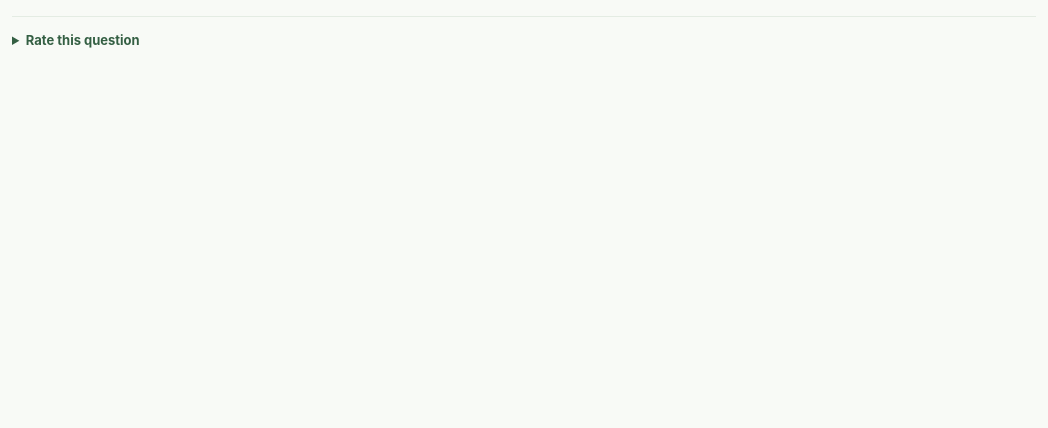
Test: question feedback › loads on demand, saves, edits and deletes feedback
Click the heading "Rate this question". click: (83, 40)
box: [26, 32, 140, 48]
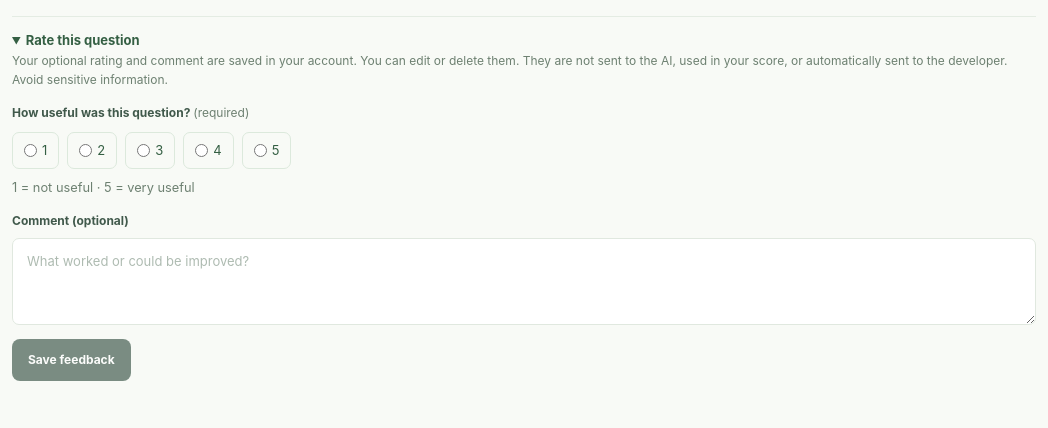
Expected: the button "Save feedback" is disabled, [12, 339, 131, 381]
Click the radio button labelled "4". click: (202, 151)
box: [195, 144, 208, 157]
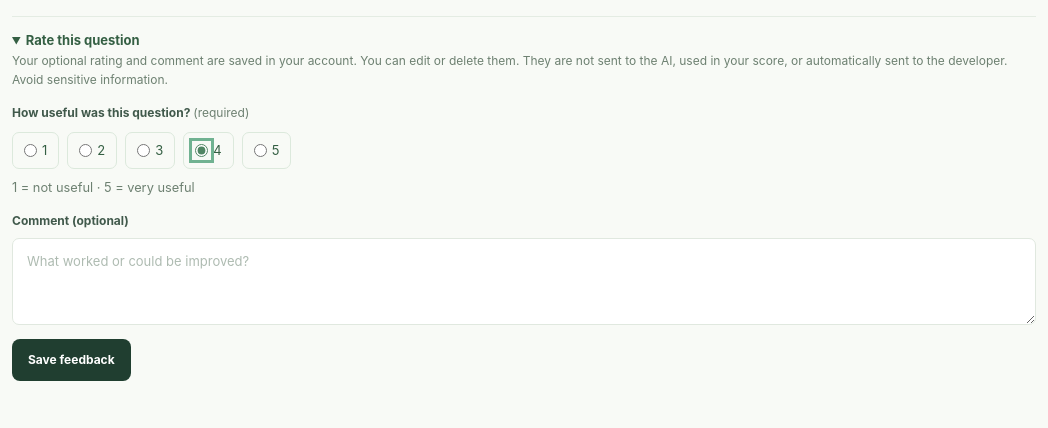
Type "Useful" into the text box labelled "Comment (optional)". click: (524, 282)
box: [12, 238, 1036, 325]
Click the button "Save feedback". click: (71, 360)
box: [12, 339, 131, 381]
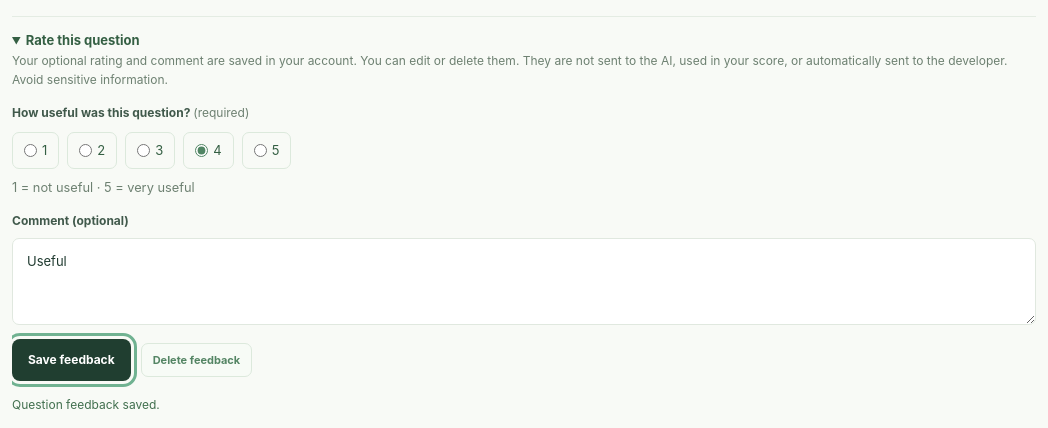
Expected: the text "Question feedback saved." is shown, [12, 397, 160, 412]
Click the radio button labelled "2". click: (86, 151)
box: [79, 144, 92, 157]
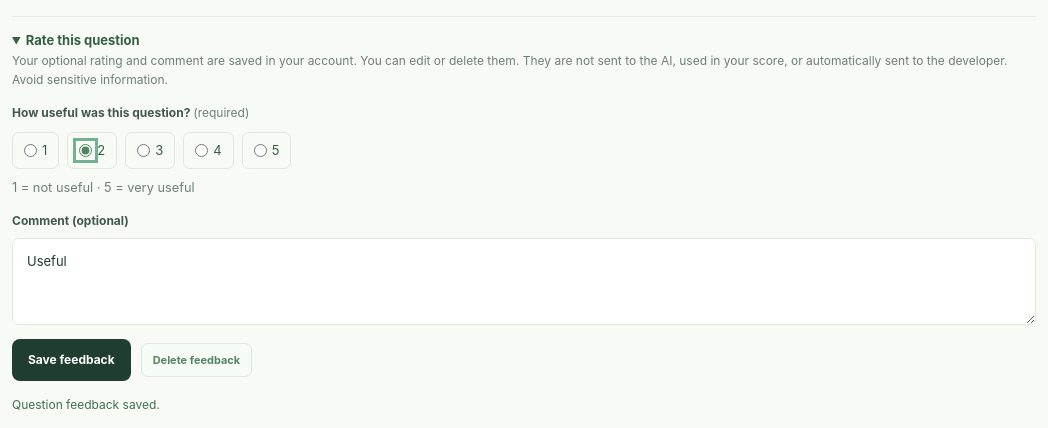
Click the button "Save feedback". click: (71, 360)
box: [12, 339, 131, 381]
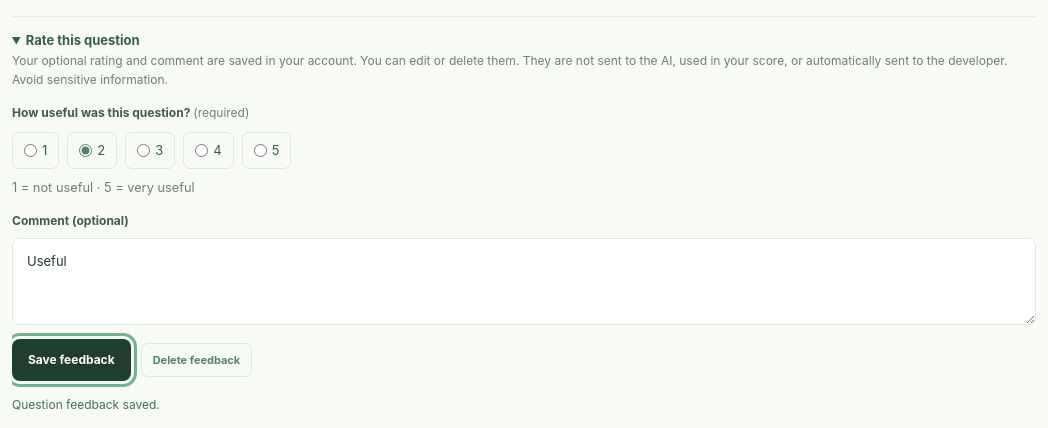
Expected: the text "Question feedback saved." is shown, [12, 397, 160, 412]
Click the button "Delete feedback". click: (196, 360)
box: [141, 343, 252, 377]
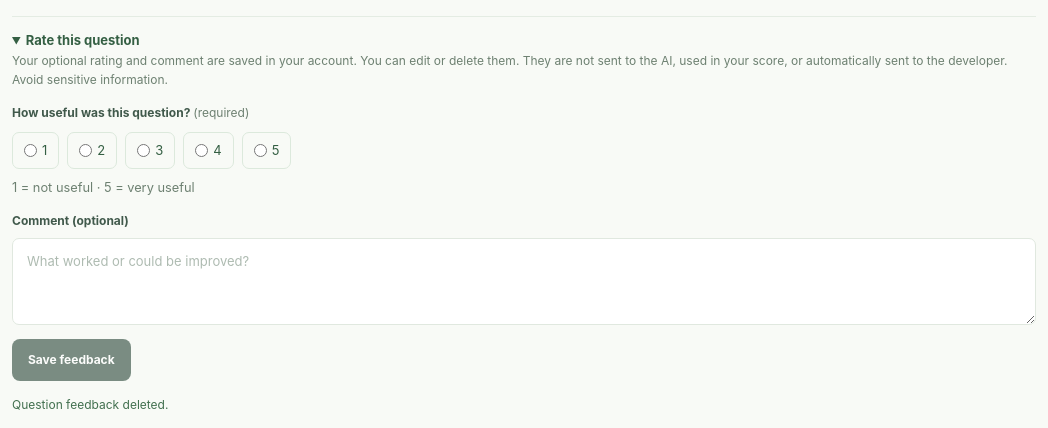
Expected: the radio button labelled "2" is not checked, [79, 144, 92, 157]
Expected: the text "Question feedback deleted." is shown, [12, 397, 168, 412]
Expected: the text box labelled "Comment (optional)" is empty, [12, 238, 1036, 325]
